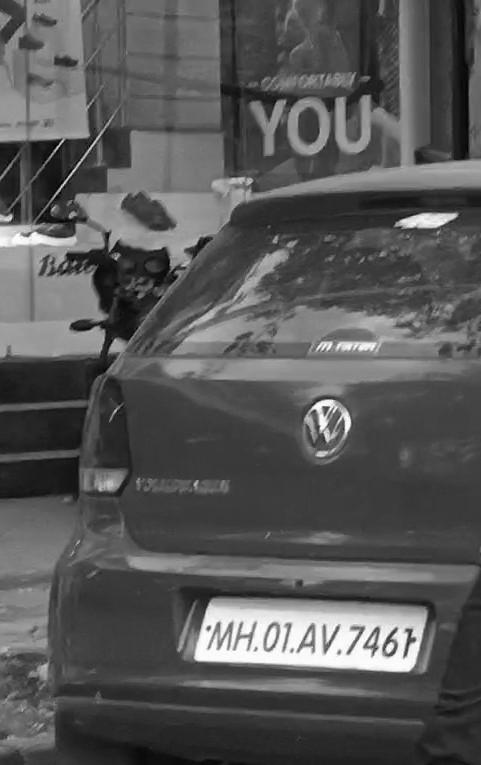number_plate: (199, 601, 426, 672)
